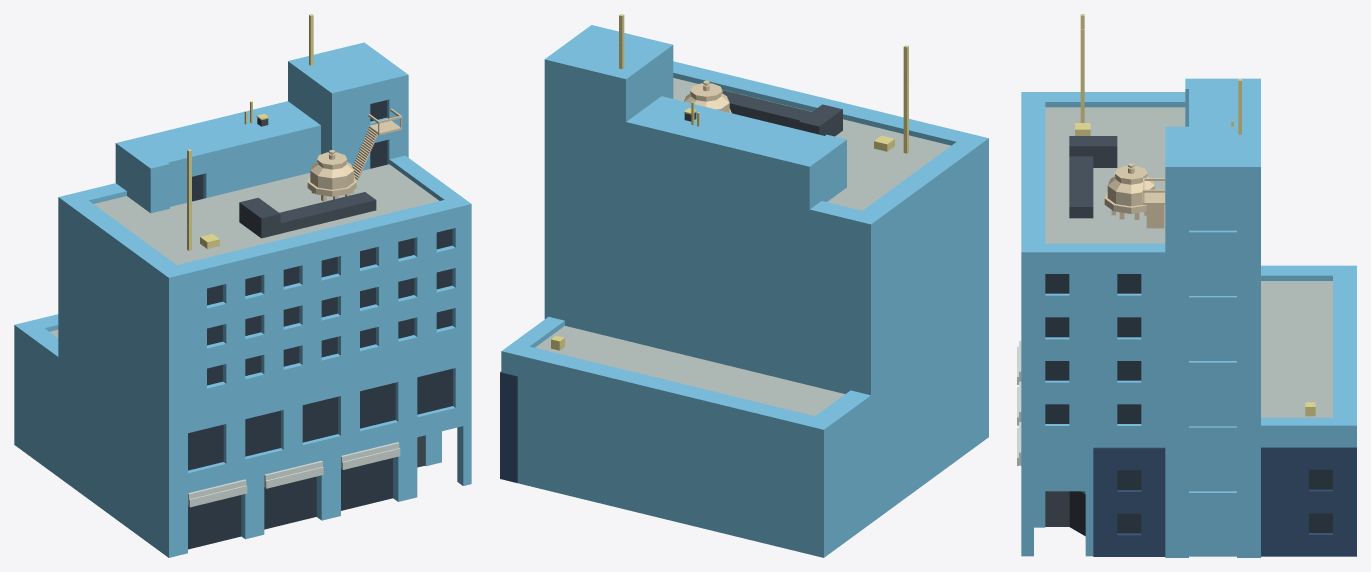
Rendered from building4_final.fbx.
The picture shows the model from 3 angles, left to right: view 1: azimuth 30°, elevation 25°; view 2: azimuth 150°, elevation 25°; view 3: azimuth 270°, elevation 25°; orthographic projection. The views are drawn at different scales.
Parts seen in each view (by area): view 1: pCube8213, pCube9247, pCube8679, pCube7432, pCube8079, pCube8467, pCube9375, pCube6206, pCube7410, pCube9244, pCube8740, pCube8729 (+109 smaller); view 2: pCube9255, pCube8727, pCube7322, pCube7430, pCube6213, pCube8480, pCube8080, pCube6763, pCube9288, pCube9273, pCube9293, pCube9275 (+107 smaller); view 3: pCube8213, pCube9244, pCube9273, pCube7388, pCube8708, pCube7382, pCube8808, pCube7387, pCube7220, pCube8459, pCube8460, pCube8210 (+77 smaller).
Part boxes in pixels (left/top/right/bottom): pCube8213: left=415, top=188, right=471, bottom=289; pCube9247: left=310, top=68, right=370, bottom=133; pCube8679: left=146, top=257, right=206, bottom=317; pCube7432: left=146, top=382, right=206, bottom=437; pCube8079: left=146, top=342, right=206, bottom=397; pCube8467: left=146, top=302, right=206, bottom=357; pCube9375: left=146, top=462, right=208, bottom=517; pCube6206: left=146, top=502, right=203, bottom=557; pCube7410: left=146, top=422, right=204, bottom=477; pCube9244: left=349, top=58, right=408, bottom=121; pCube8740: left=338, top=210, right=398, bottom=267; pCube8729: left=223, top=238, right=283, bottom=295; pCube9255: left=585, top=52, right=649, bottom=121; pCube8727: left=830, top=202, right=894, bottom=266; pCube7322: left=783, top=407, right=847, bottom=472; pCube7430: left=830, top=335, right=894, bottom=395; pCube6213: left=783, top=498, right=847, bottom=557; pCube8480: left=830, top=250, right=894, bottom=309; pCube8080: left=830, top=293, right=894, bottom=352; pCube6763: left=783, top=456, right=847, bottom=515; pCube9288: left=707, top=124, right=771, bottom=194; pCube9273: left=544, top=42, right=608, bottom=111; pCube9293: left=748, top=134, right=812, bottom=204; pCube9275: left=626, top=105, right=684, bottom=174; pCube8213: left=1021, top=233, right=1069, bottom=339; pCube9244: left=1165, top=146, right=1212, bottom=210; pCube9273: left=1213, top=146, right=1260, bottom=210; pCube7388: left=1309, top=407, right=1356, bottom=469; pCube8708: left=1069, top=239, right=1117, bottom=295; pCube7382: left=1261, top=412, right=1308, bottom=469; pCube8808: left=1117, top=239, right=1165, bottom=295; pCube7387: left=1117, top=424, right=1165, bottom=470; pCube7220: left=1021, top=424, right=1069, bottom=469; pCube8459: left=1117, top=293, right=1165, bottom=339; pCube8460: left=1069, top=295, right=1117, bottom=339; pCube8210: left=1165, top=339, right=1212, bottom=384.
Bounding box in the file's own units: 31.5 × 40.34 × 27.92.
